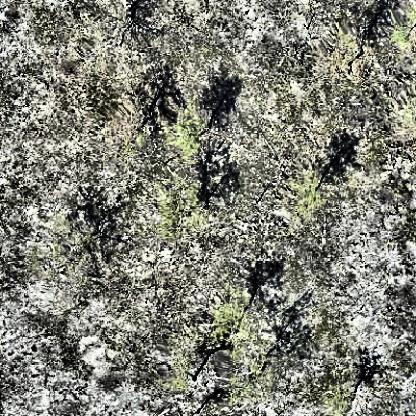tree-top: (42, 212, 124, 281), (156, 177, 214, 245), (210, 295, 257, 360), (281, 169, 332, 223), (165, 106, 211, 161)
